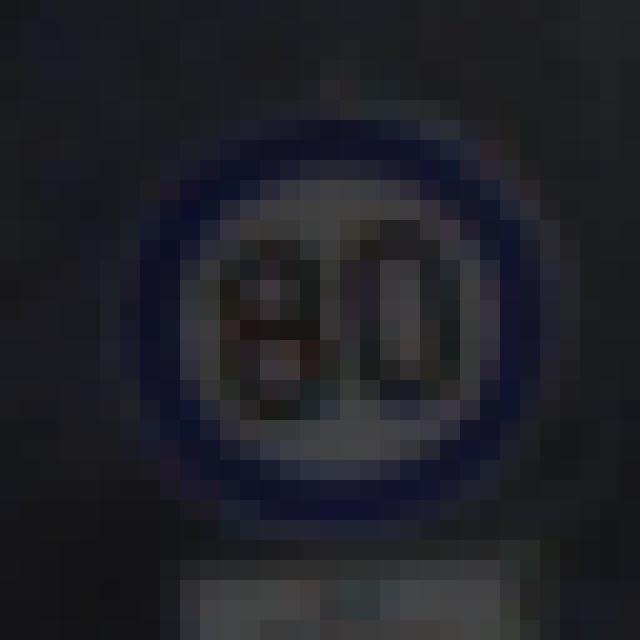SPEED-LIMIT-80: (125, 109, 545, 496)
